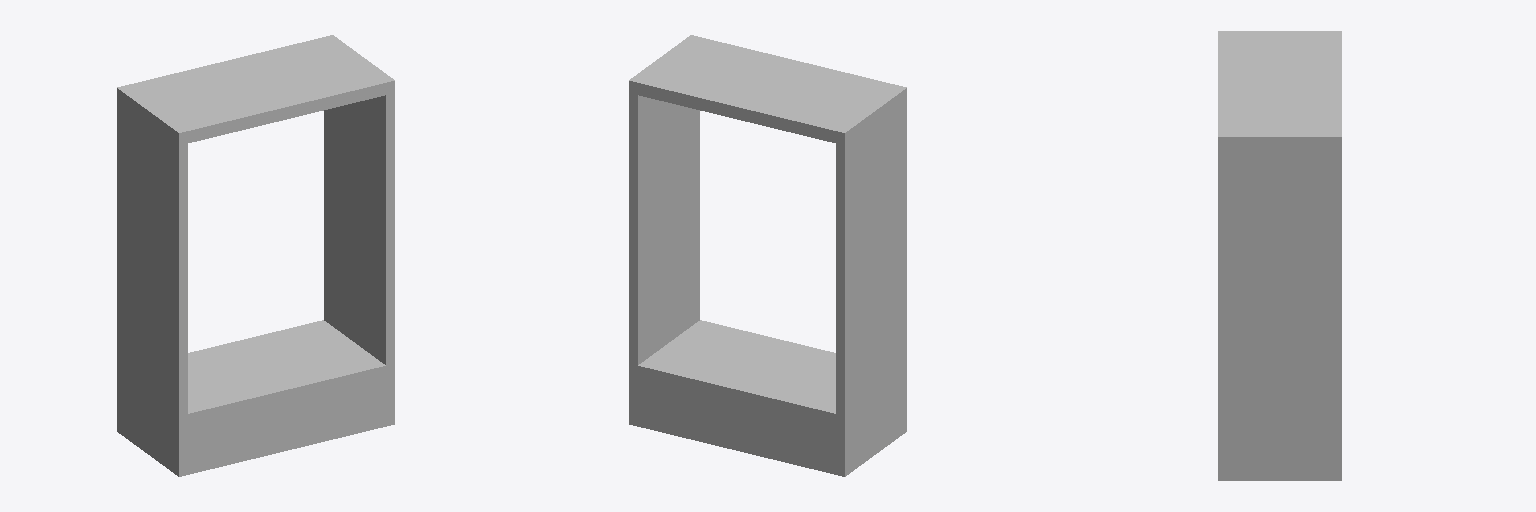
The model's file is Bookshelf.obj.
The picture shows the model from 3 angles: view 1: azimuth 30°, elevation 25°; view 2: azimuth 150°, elevation 25°; view 3: azimuth 270°, elevation 25°; orthographic projection.
Parts seen in each view (by area): view 1: Cube; view 2: Cube; view 3: Cube.
Boxes of the visible parts, <box> form: Cube: <box>117,35,394,476</box>; Cube: <box>629,35,906,476</box>; Cube: <box>1218,31,1341,480</box>.
Size of the model in its own units: 2 by 3.04 by 1.